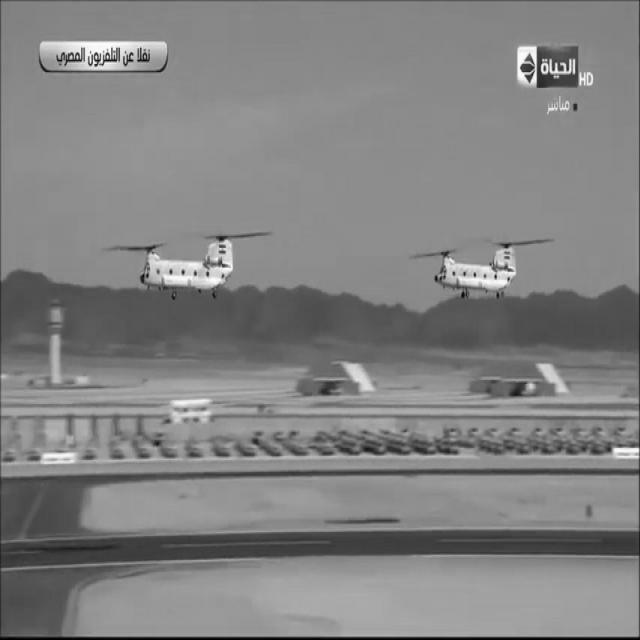helikopter: (126, 216, 251, 321), (424, 216, 536, 321)
